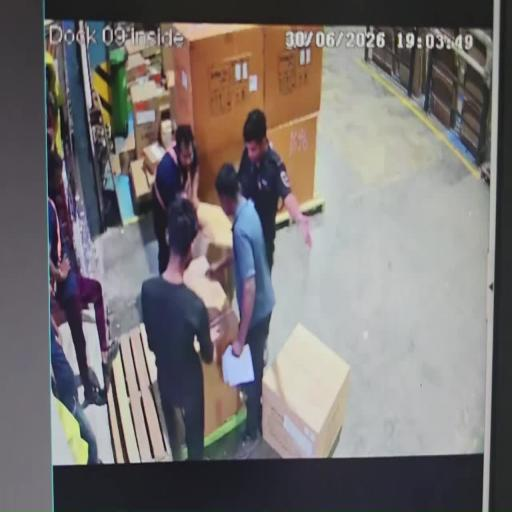carton: (260, 322, 351, 460), (166, 22, 264, 144), (260, 25, 324, 129), (183, 254, 241, 360), (192, 134, 263, 208), (261, 112, 318, 203), (202, 337, 242, 440), (193, 201, 234, 273), (130, 157, 155, 204), (134, 109, 156, 162), (132, 80, 164, 112)
pallet: (101, 324, 246, 464), (273, 195, 326, 231)
person: (204, 162, 276, 460), (140, 196, 215, 464), (49, 151, 120, 408), (236, 108, 314, 278), (49, 309, 101, 465), (150, 123, 200, 277)
